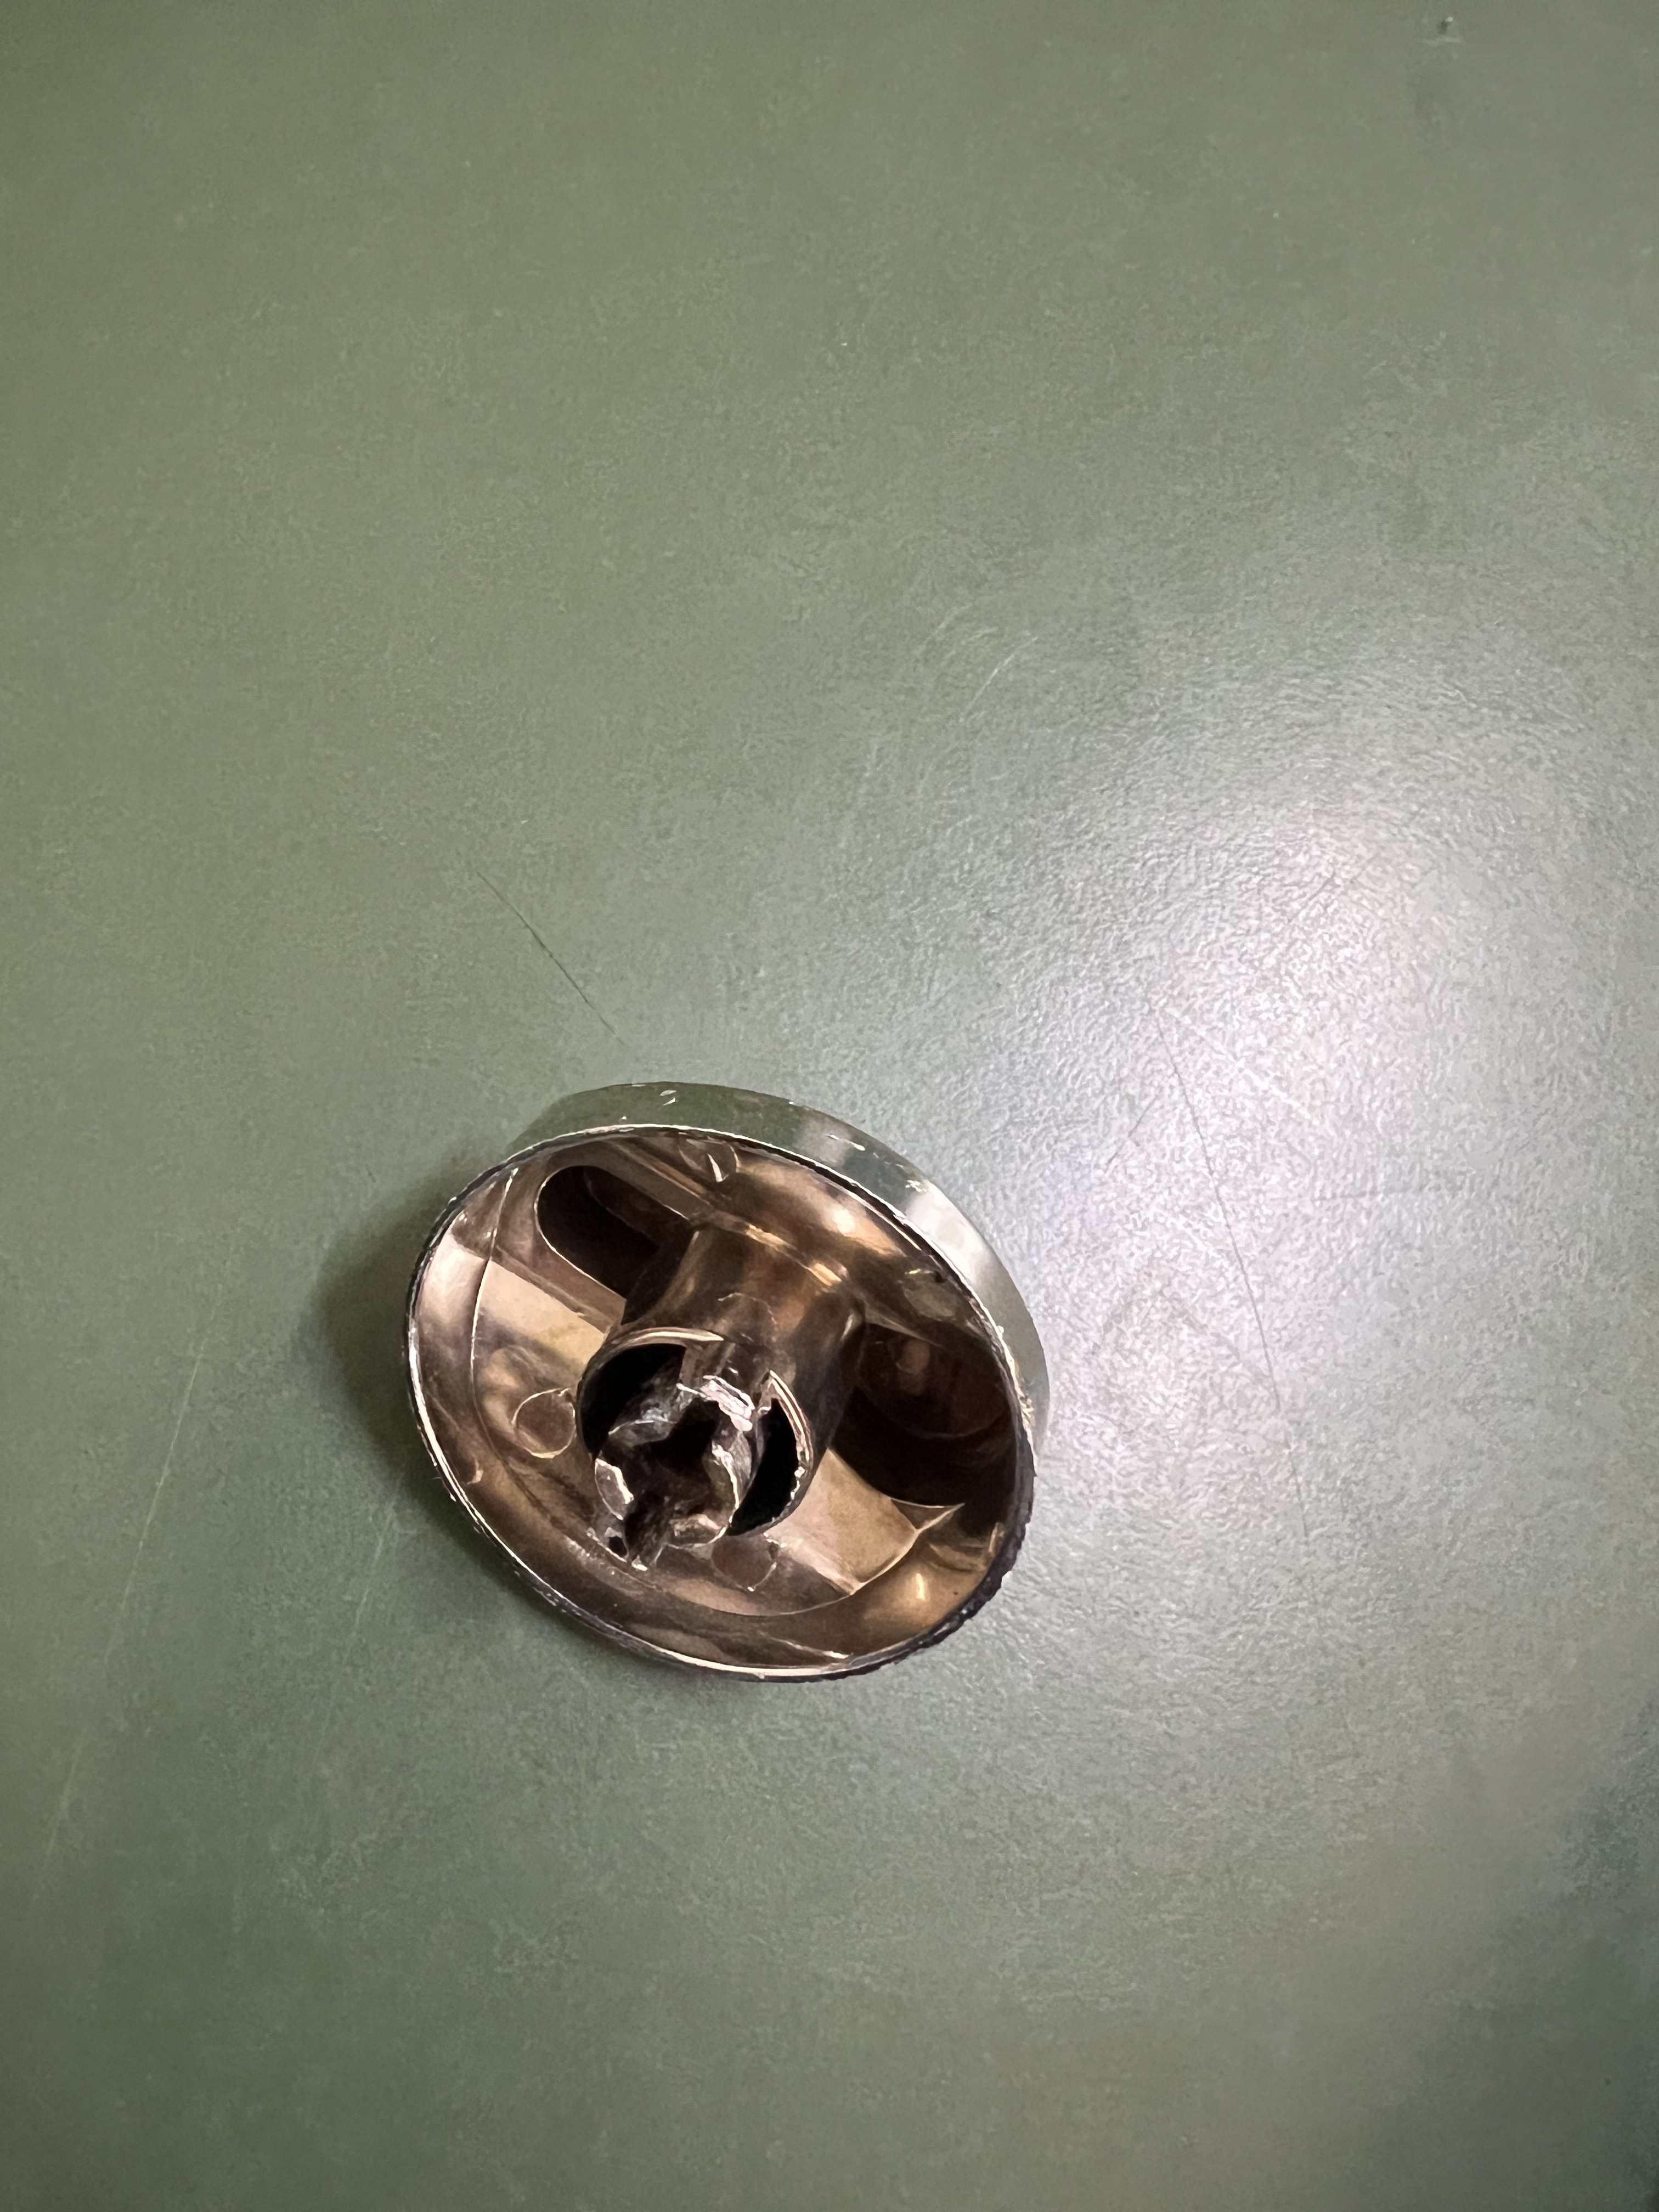regulator: (413, 1082, 1061, 1681)
